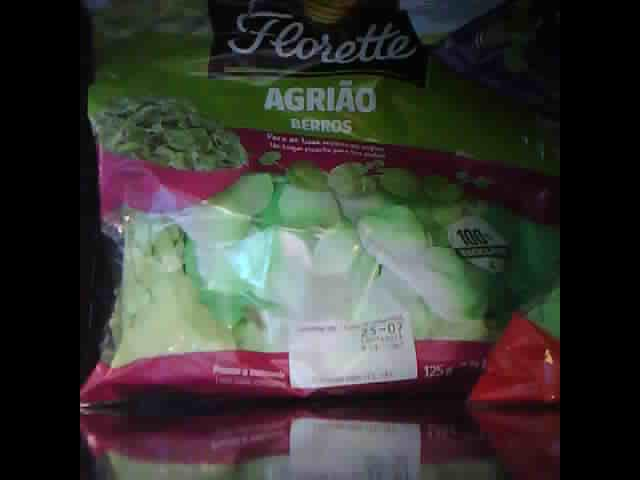florette: (79, 3, 528, 410), (462, 276, 559, 406)
